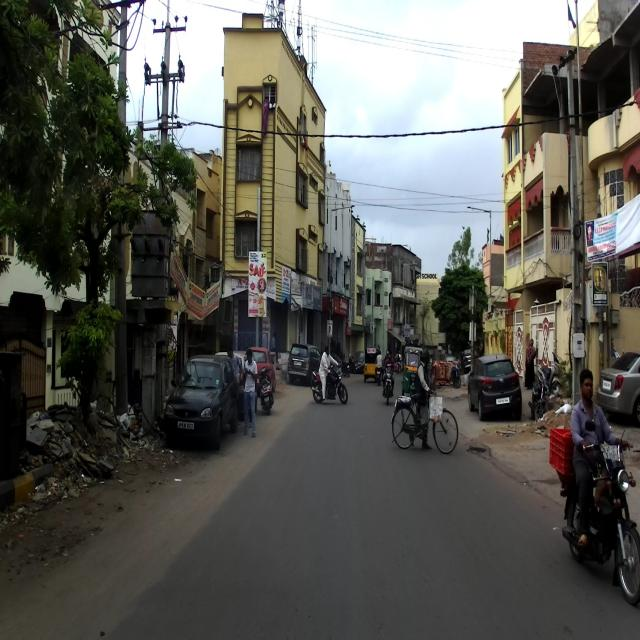Car: (164, 353, 239, 452)
Car_Hyundai: (466, 353, 522, 420)
Car_Toyota: (286, 342, 320, 381)
motorcycle_TVS: (562, 416, 639, 604)
